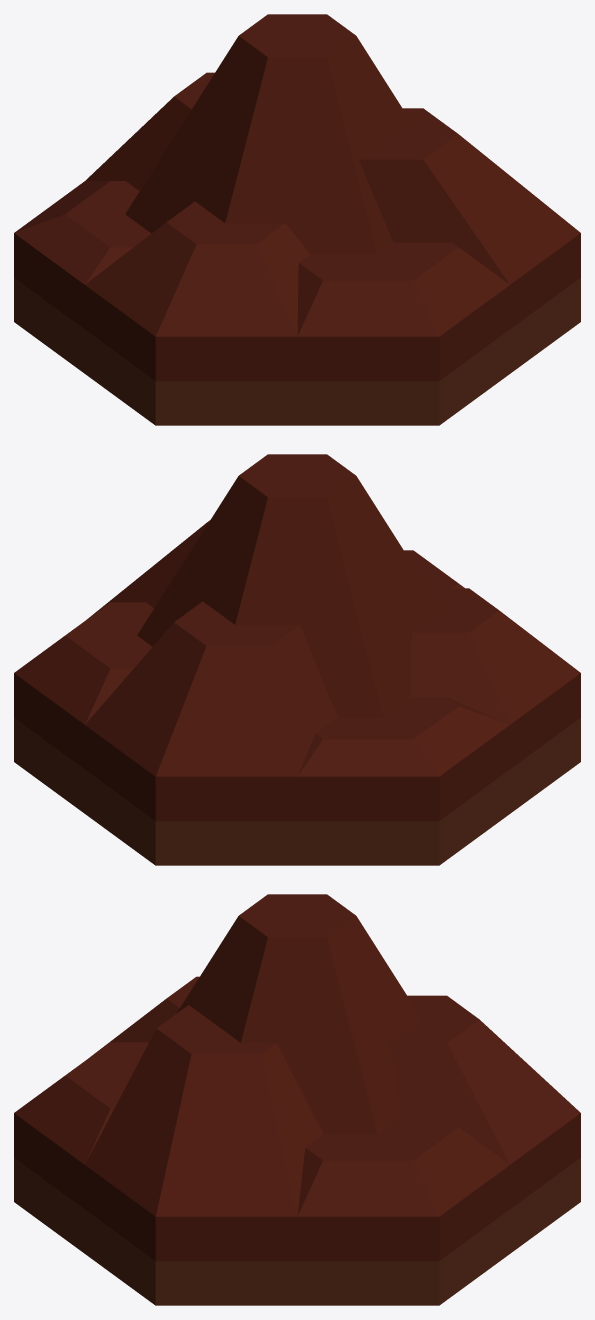
The model's file is SM_Mountain.FBX.
3 views of the same model, one above another, from view 1: azimuth 30°, elevation 25°; view 2: azimuth 150°, elevation 25°; view 3: azimuth 270°, elevation 25° (orthographic).
Visible parts, largest first — view 1: SM_Mountain; view 2: SM_Mountain; view 3: SM_Mountain.
Part boxes in pixels (x1=…): SM_Mountain: x1=14, y1=14, x2=580, y2=425; SM_Mountain: x1=14, y1=454, x2=580, y2=865; SM_Mountain: x1=14, y1=894, x2=580, y2=1305.
Size of the model in its own units: 100 by 115 by 64.32.
